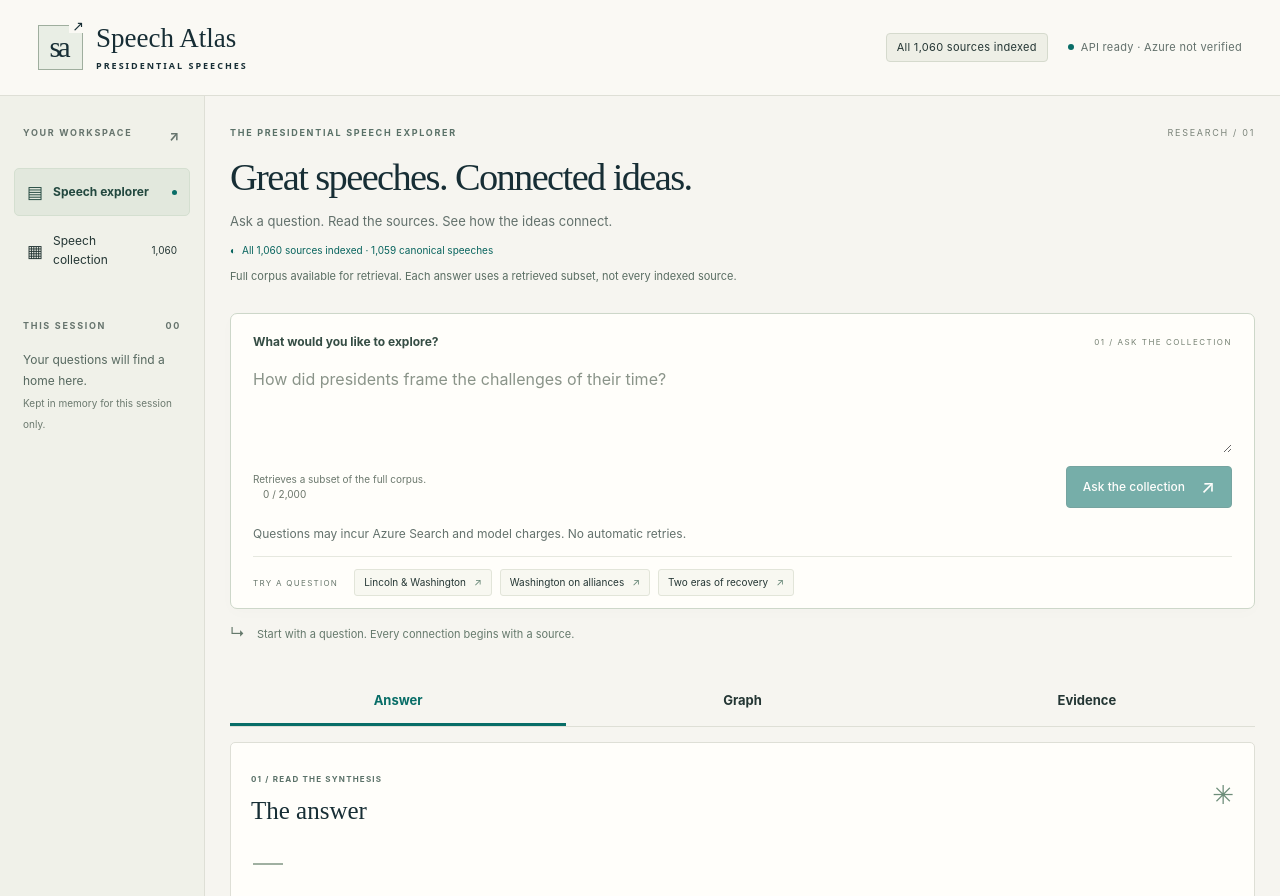
Test case: research workspace › shows full coverage separately from retrieval limits and keeps the catalog closed
The width and height of the screenshot is (1280, 896).
Later steps or results of the test are not shown.
Check: the text "API ready · Azure not verified" is shown, box [1068,39,1242,56]
Check: the text "All 1,060 sources indexed" is shown, box [886,33,1048,62]
Click the button "Lincoln & Washington ↗" at (423, 583), box [354,569,492,596]
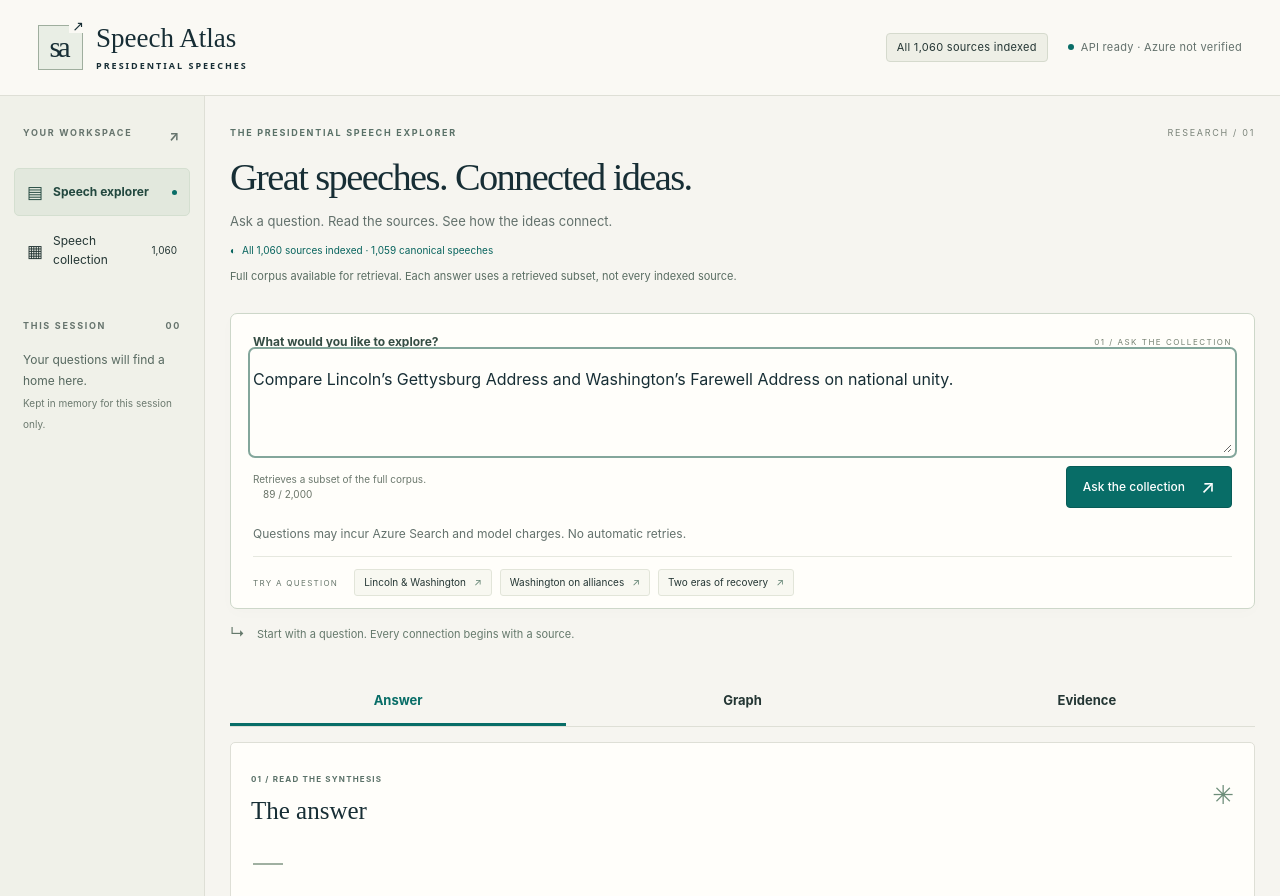
Check: the text box holds "Compare Lincoln’s Gettysburg Address and Washington’s Farewell Address on national unity.", box [253,352,1232,453]
